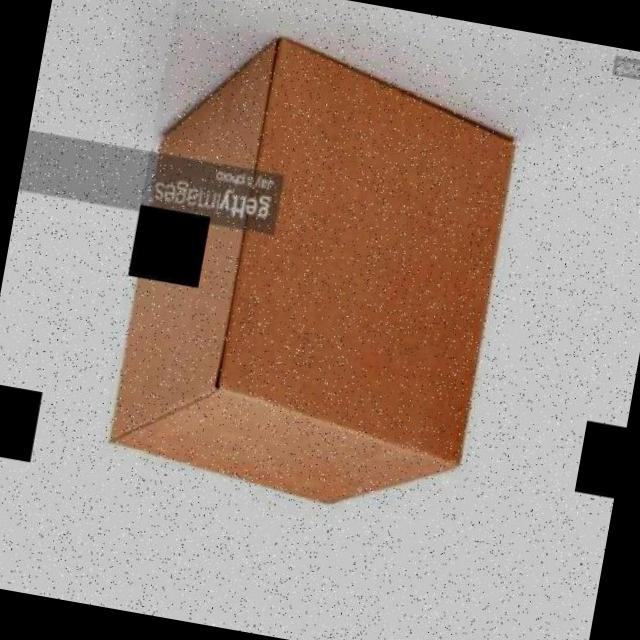box: (89, 0, 546, 553)
